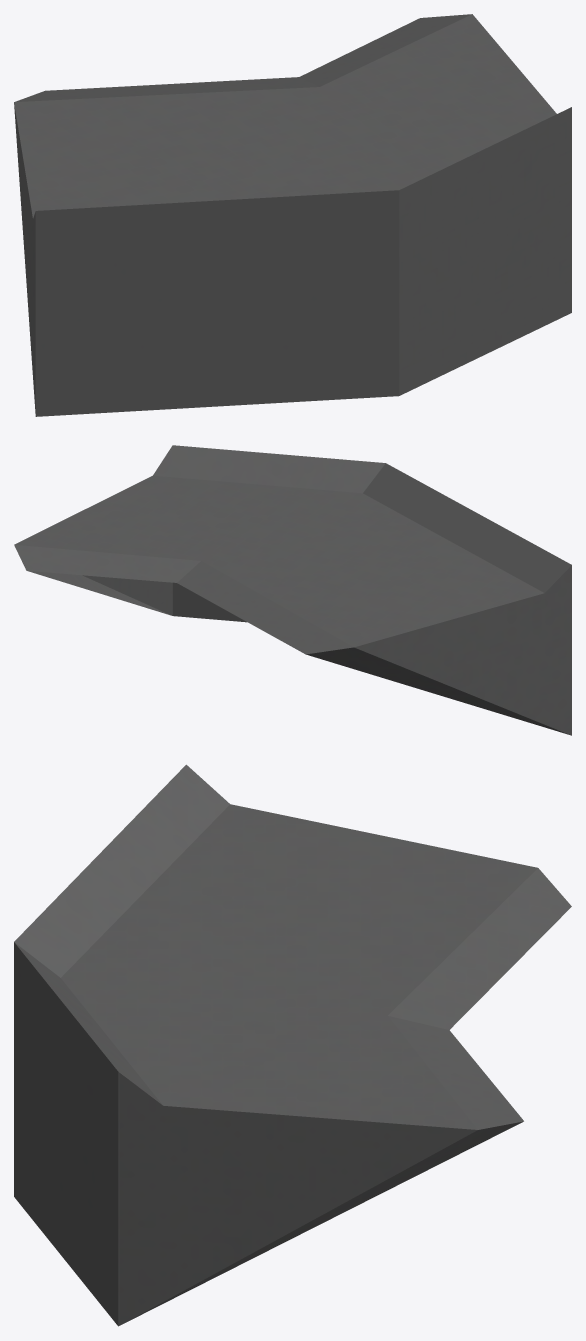
The model's file is CaptainsQuarters_Desk.fbx.
3 renders of one model, top to bottom at view 1: azimuth 30°, elevation 25°; view 2: azimuth 150°, elevation 25°; view 3: azimuth 270°, elevation 25°, orthographic. The views are drawn at different scales.
Visible parts, largest first — view 1: CaptainsQuarters_Desk; view 2: CaptainsQuarters_Desk; view 3: CaptainsQuarters_Desk.
Boxes of the visible parts, <box> form: CaptainsQuarters_Desk: <box>14,14,571,416</box>; CaptainsQuarters_Desk: <box>14,445,571,735</box>; CaptainsQuarters_Desk: <box>14,764,571,1326</box>.
Size of the model in its own units: 740 by 262 by 521.
